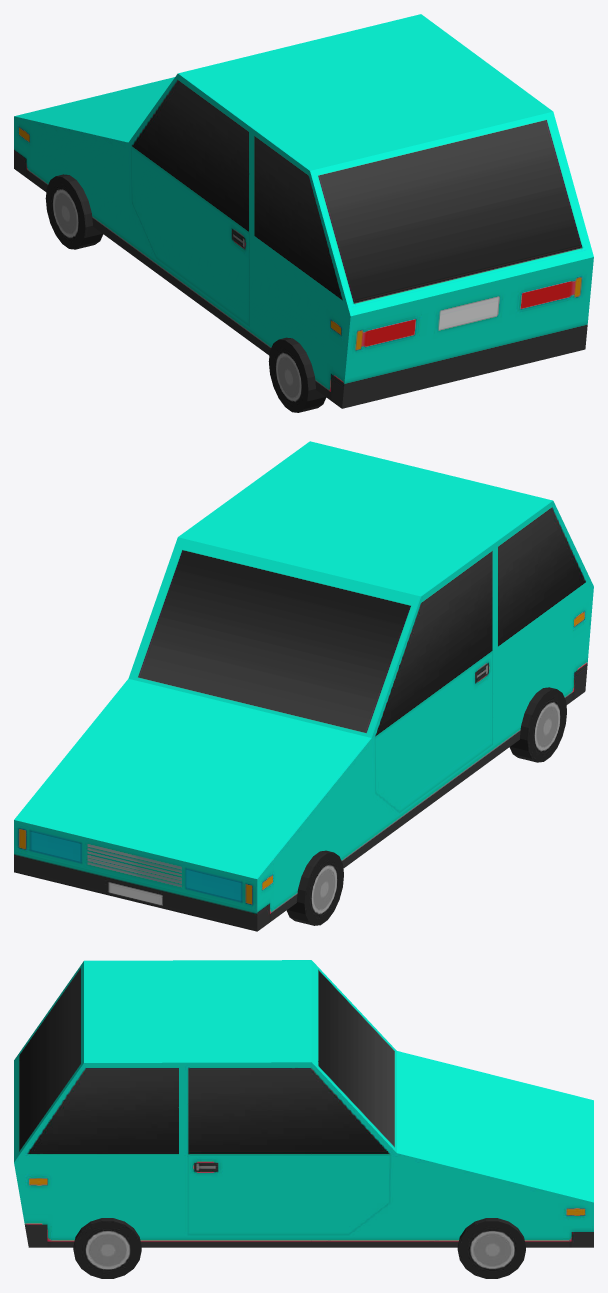
Rendered from car1.glb.
The picture shows the model from 3 angles, top to bottom: view 1: azimuth 30°, elevation 25°; view 2: azimuth 150°, elevation 25°; view 3: azimuth 270°, elevation 25°; orthographic projection. The views are drawn at different scales.
Visible parts, largest first — view 1: CAR_01; view 2: CAR_01; view 3: CAR_01.
Part boxes in pixels (x1,y1,x2,y2): CAR_01: (14,14,593,412); CAR_01: (14,441,593,931); CAR_01: (14,960,593,1278).
Bounding box in the file's own units: 1.78 × 1.63 × 4.01.
Materials: 1 (1 with a texture image).
